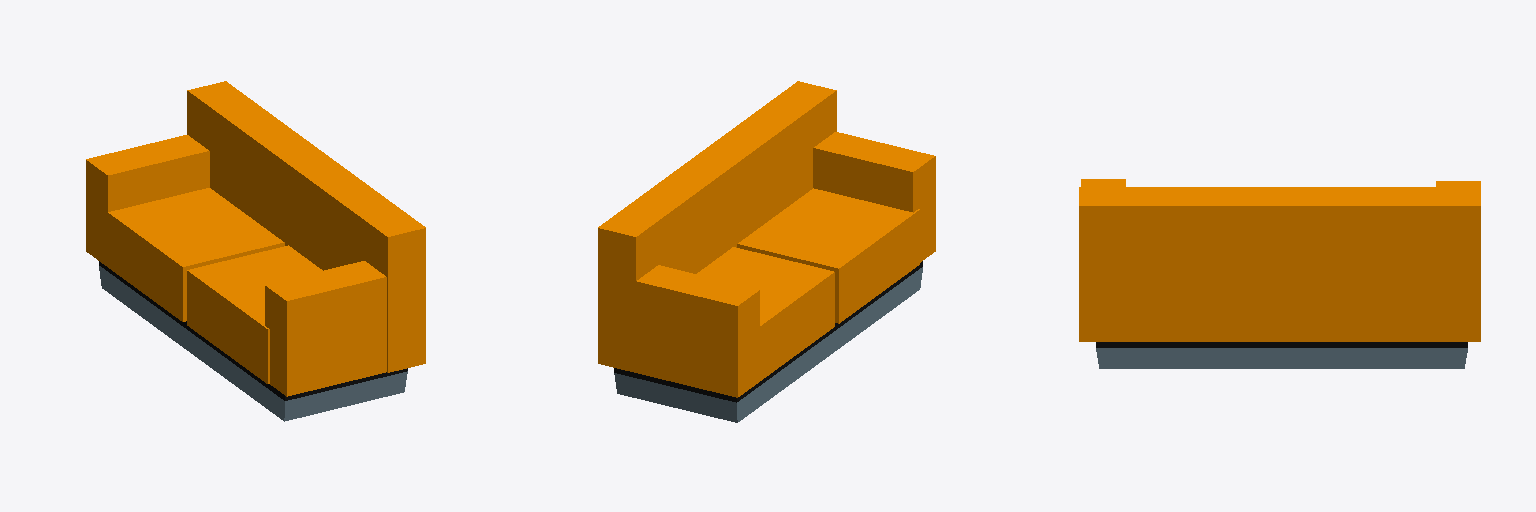
The model's file is sofa.obj.
3 views of the same model, side by side, from view 1: azimuth 30°, elevation 25°; view 2: azimuth 150°, elevation 25°; view 3: azimuth 270°, elevation 25° (orthographic).
Visible parts, largest first — view 1: group[number redacted]; view 2: group[number redacted]; view 3: group[number redacted].
Boxes of the visible parts, <box> form: group[number redacted]: <box>86,81,425,421</box>; group[number redacted]: <box>598,81,935,422</box>; group[number redacted]: <box>1079,179,1480,368</box>.
Size of the model in its own units: 0.5131 by 0.5901 by 1.27.